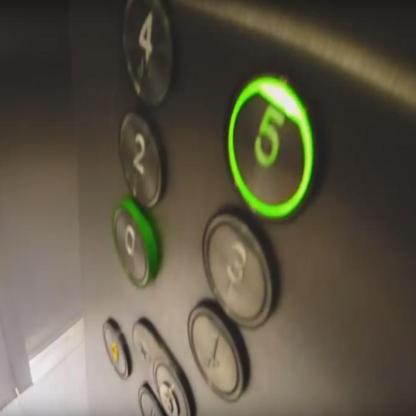0: (110, 197, 159, 289)
1: (188, 298, 250, 404)
2: (118, 107, 166, 211)
3: (201, 203, 281, 331)
4: (121, 0, 175, 109)
5: (223, 70, 320, 223)
alarm: (102, 314, 132, 379)
stop: (132, 316, 194, 415)
